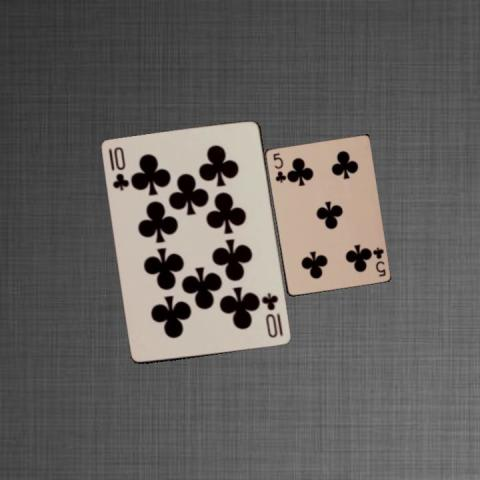10c: (259, 290, 285, 339), (106, 144, 131, 193)
5c: (369, 244, 387, 278), (270, 150, 286, 184)
